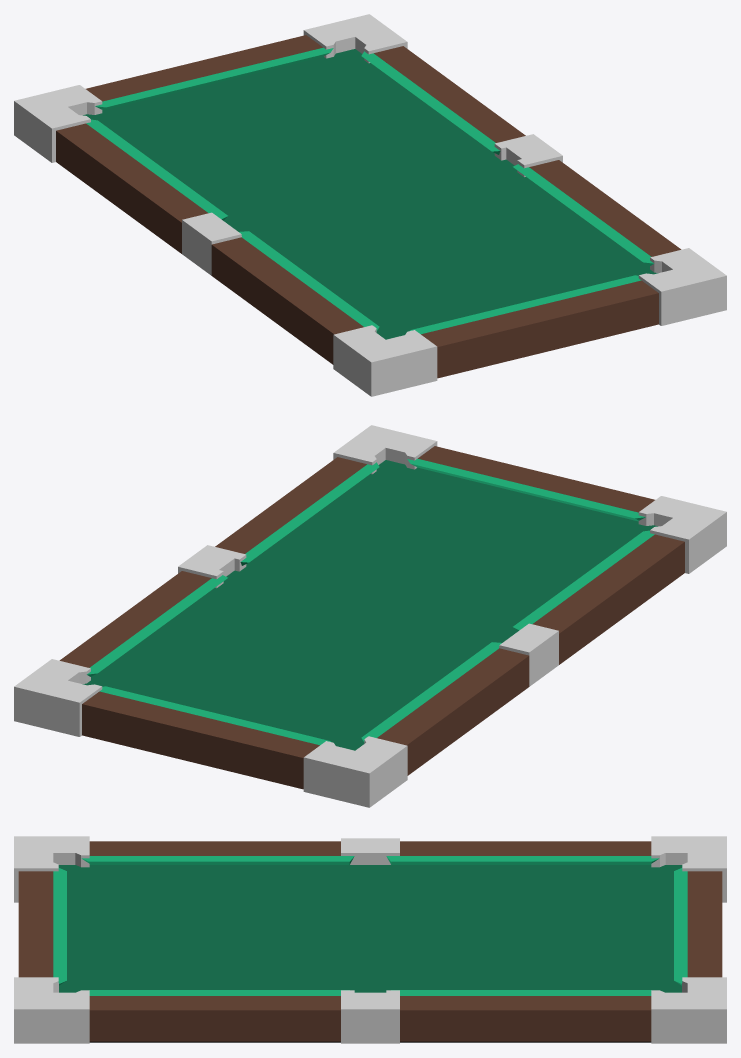
Rendered from table.glb.
The picture shows the model from 3 angles, top to bottom: view 1: azimuth 30°, elevation 25°; view 2: azimuth 150°, elevation 25°; view 3: azimuth 270°, elevation 25°; orthographic projection.
Visible parts, largest first — view 1: Table_Bed, Rail.006, Rail.001, Rail.002, Pocket_Liners, Rail.004, Pocket_Liners.001, Rail.005, Rail.003, Pocket_Liners.002, Cushions.005, Pocket_Liners.NoModifier (+12 smaller); view 2: Table_Bed, Rail.004, Rail.002, Rail.001, Pocket_Liners.002, Rail.006, Rail.003, Rail.005, Pocket_Liners.003, Pocket_Liners, Cushions.001, Pocket_Liners.NoModifier (+12 smaller); view 3: Table_Bed, Rail.003, Rail.005, Pocket_Liners.003, Rail.004, Rail.006, Rail.001, Rail.002, Pocket_Liners.001, Pocket_Liners.005, Cushions.002, Cushions.003 (+14 smaller).
Boxes of the visible parts, x1=… form: Table_Bed: x1=83, y1=49, x2=658, y2=339; Rail.006: x1=421, y1=280, x2=658, y2=378; Rail.001: x1=56, y1=123, x2=208, y2=253; Rail.002: x1=211, y1=237, x2=363, y2=364; Pocket_Liners: x1=333, y1=325, x2=437, y2=396; Rail.004: x1=86, y1=35, x2=322, y2=101; Pocket_Liners.001: x1=638, y1=248, x2=726, y2=325; Rail.005: x1=529, y1=160, x2=681, y2=256; Rail.003: x1=374, y1=46, x2=525, y2=142; Pocket_Liners.002: x1=14, y1=85, x2=102, y2=162; Cushions.005: x1=95, y1=47, x2=333, y2=110; Pocket_Liners.NoModifier: x1=182, y1=212, x2=241, y2=275; Table_Bed: x1=82, y1=460, x2=657, y2=750; Rail.004: x1=82, y1=691, x2=319, y2=789; Rail.002: x1=532, y1=534, x2=684, y2=664; Rail.001: x1=377, y1=648, x2=529, y2=775; Pocket_Liners.002: x1=303, y1=736, x2=407, y2=807; Rail.006: x1=418, y1=446, x2=654, y2=512; Rail.003: x1=59, y1=571, x2=211, y2=667; Rail.005: x1=215, y1=457, x2=366, y2=553; Pocket_Liners.003: x1=14, y1=659, x2=102, y2=736; Pocket_Liners: x1=638, y1=496, x2=726, y2=573; Cushions.001: x1=407, y1=458, x2=645, y2=521; Pocket_Liners.NoModifier: x1=499, y1=623, x2=558, y2=686; Table_Bed: x1=58, y1=865, x2=682, y2=992; Rail.003: x1=400, y1=996, x2=651, y2=1041; Rail.005: x1=89, y1=996, x2=340, y2=1041; Pocket_Liners.003: x1=651, y1=977, x2=726, y2=1043; Rail.004: x1=687, y1=871, x2=722, y2=977; Rail.006: x1=18, y1=871, x2=53, y2=977; Rail.001: x1=400, y1=841, x2=651, y2=855; Rail.002: x1=89, y1=841, x2=340, y2=855; Pocket_Liners.001: x1=14, y1=977, x2=89, y2=1043; Pocket_Liners.005: x1=341, y1=990, x2=399, y2=1043; Cushions.002: x1=386, y1=856, x2=659, y2=864; Cushions.003: x1=81, y1=856, x2=354, y2=864.
Size of the model in its own units: 151 by 16.08 by 263.
